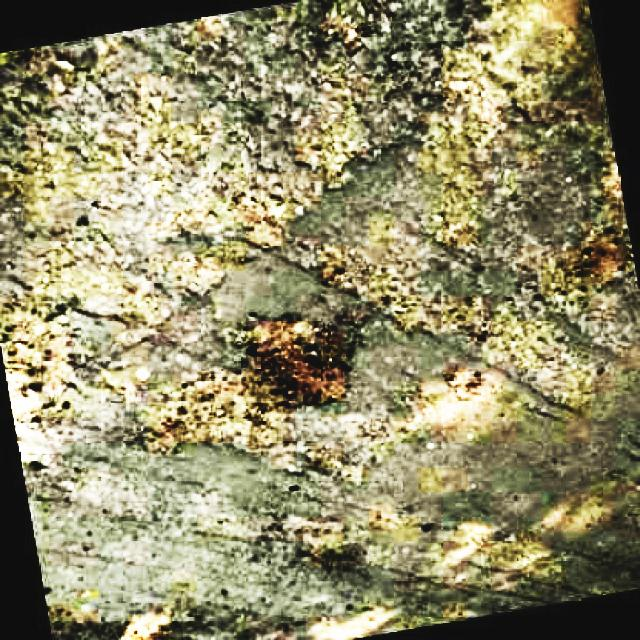pothole: (161, 303, 357, 434), (6, 305, 80, 426)
